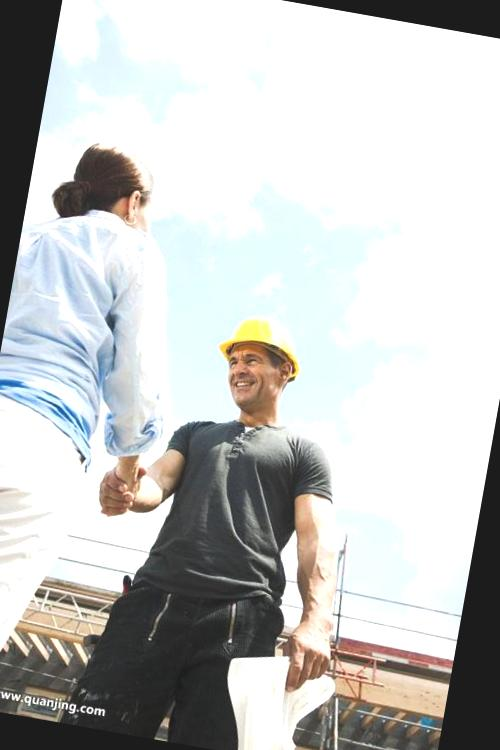no_helmet: (46, 121, 171, 260)
